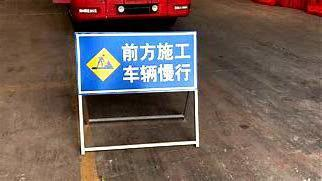sign: (77, 33, 198, 94)
